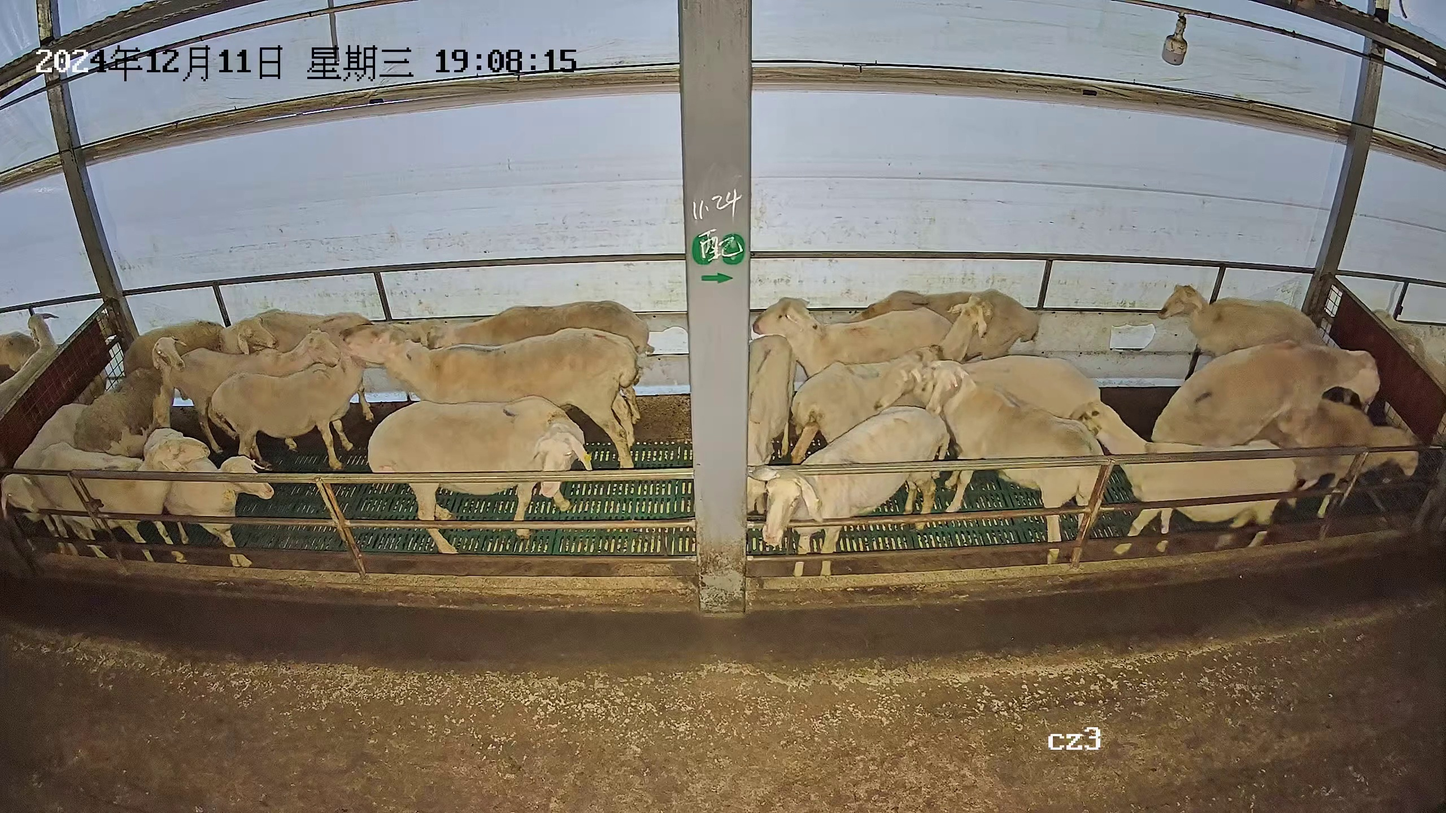Smounting: (1149, 336, 1425, 527)
mounted: (1248, 396, 1421, 522)
